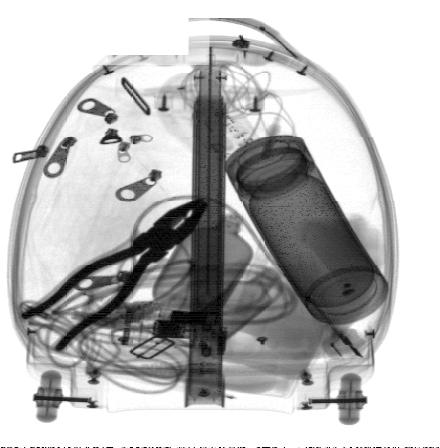Pliers: (21, 197, 208, 354)
